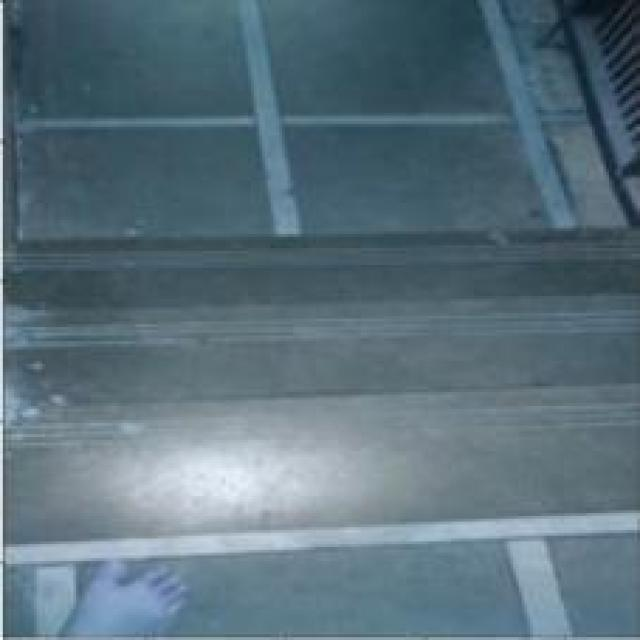downstair: (185, 235, 526, 441)
